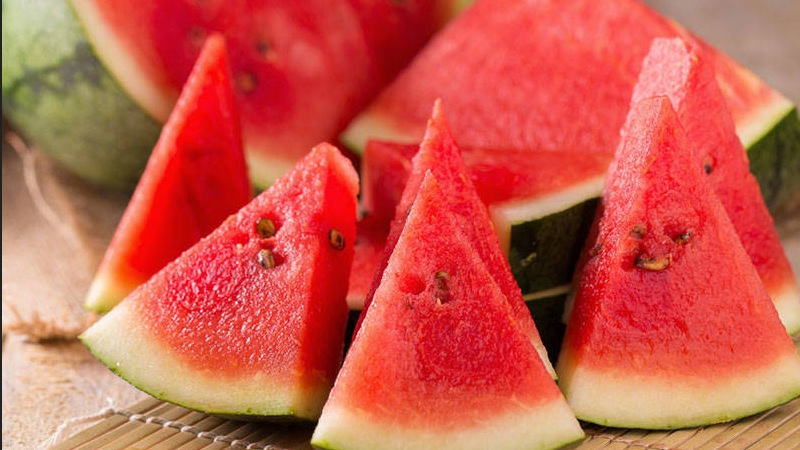Semangka: (558, 115, 781, 407), (148, 164, 371, 394), (318, 186, 508, 432), (106, 65, 271, 269)
